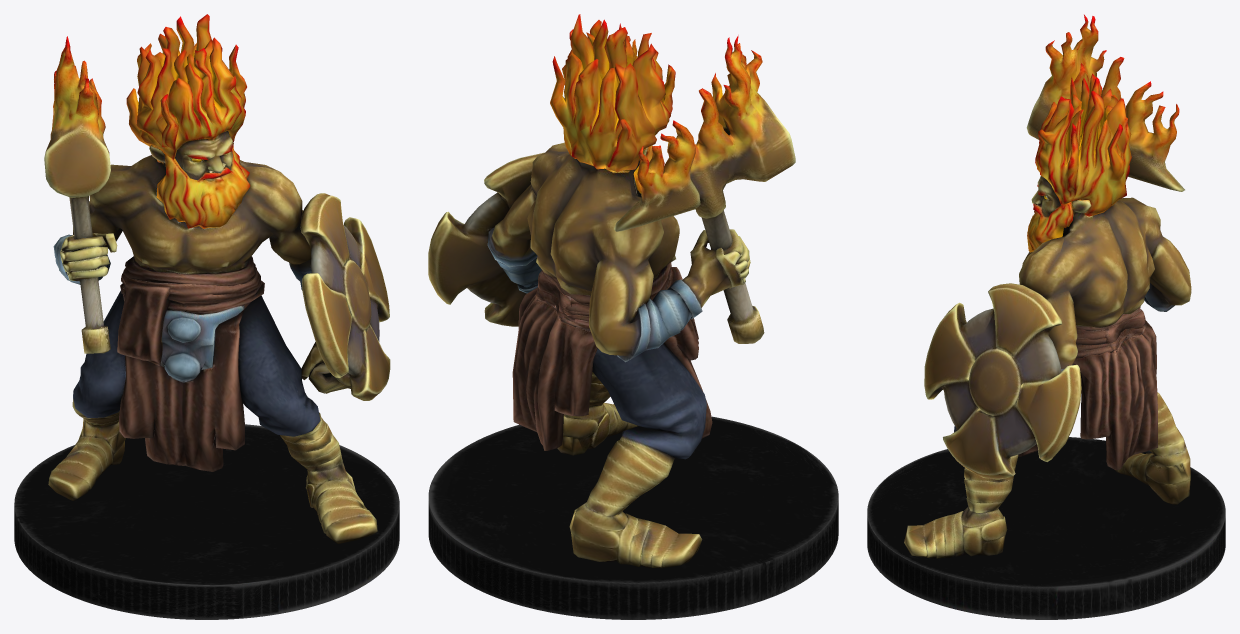
File: MZ4250 - Azer.glb
3 views of the same model, side by side, from view 1: azimuth 30°, elevation 25°; view 2: azimuth 150°, elevation 25°; view 3: azimuth 270°, elevation 25° (orthographic). The views are drawn at different scales.
Visible parts, largest first — view 1: body_low.001, base_low.001, shield_low.001, pick_low.001; view 2: body_low.001, base_low.001, pick_low.001, shield_low.001; view 3: body_low.001, base_low.001, shield_low.001, pick_low.001.
Part boxes in pixels (x1,y1,x2,y2): body_low.001: (48, 14, 377, 543); base_low.001: (14, 424, 399, 619); shield_low.001: (300, 193, 390, 400); pick_low.001: (44, 36, 110, 353); body_low.001: (487, 14, 750, 568); base_low.001: (428, 416, 838, 619); pick_low.001: (614, 35, 795, 343); shield_low.001: (428, 152, 544, 326); body_low.001: (904, 73, 1191, 558); base_low.001: (867, 437, 1225, 619); shield_low.001: (924, 283, 1081, 479); pick_low.001: (1026, 14, 1184, 191).
Bounding box in the file's own units: 4.19 × 5.85 × 3.99.
Materials: 1 (1 with a texture image).
